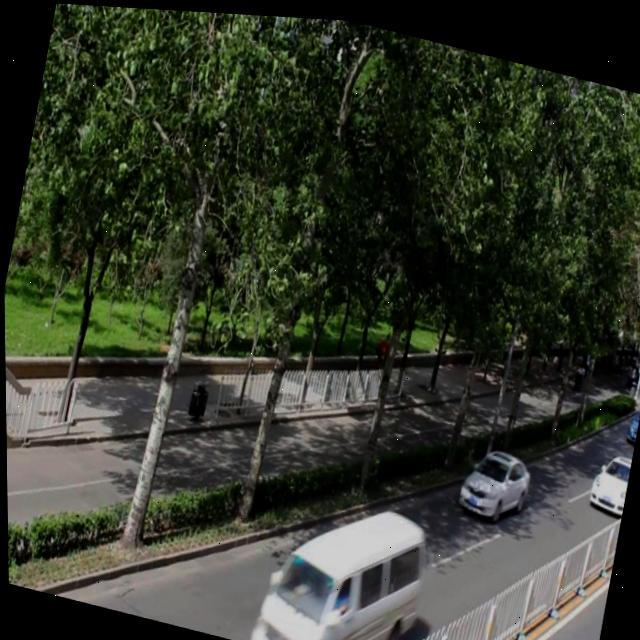car: (451, 434, 533, 523), (582, 441, 632, 511)
truck: (243, 475, 433, 640)
